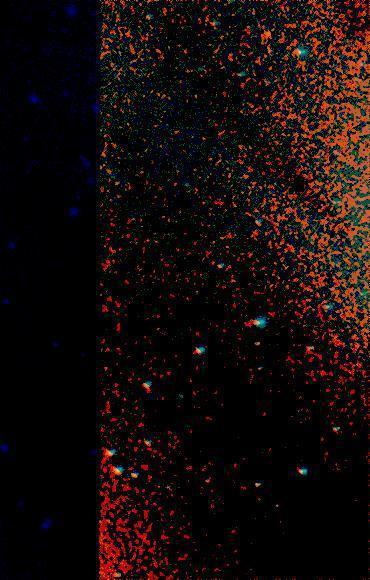star: (255, 19, 285, 49)
